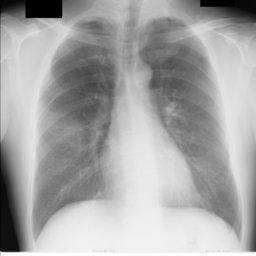left lobe: (140, 17, 240, 234)
right lobe: (34, 18, 117, 234)
